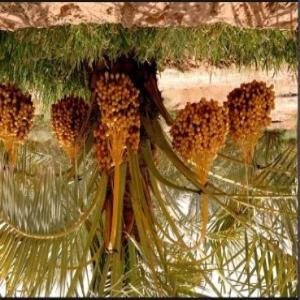palm tree: (0, 19, 298, 295)
